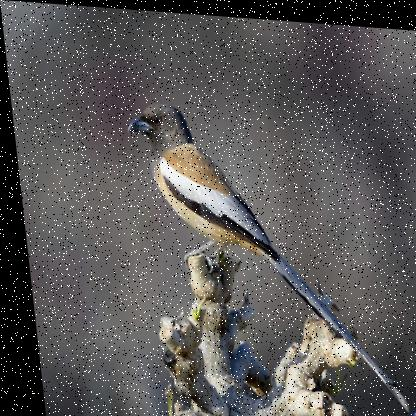Burung: (121, 98, 400, 405)
